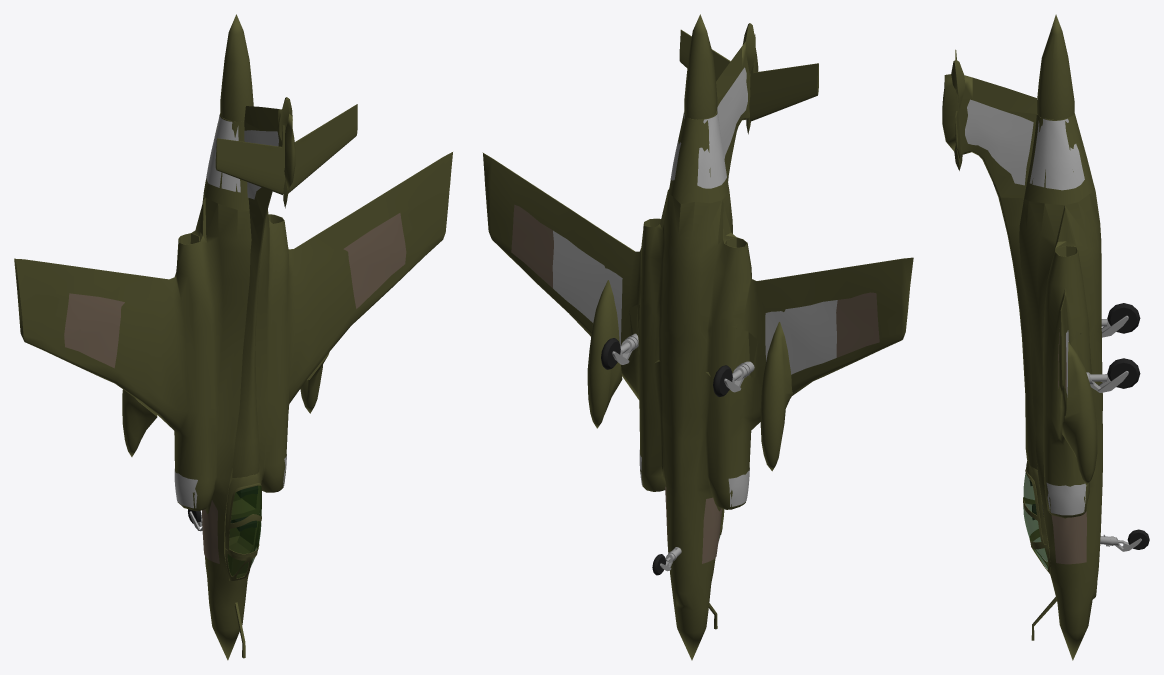
The model's file is uploads_files_2445430_BOEIN707.obj.
3 renders of one model, left to right at view 1: azimuth 30°, elevation 25°; view 2: azimuth 150°, elevation 25°; view 3: azimuth 270°, elevation 25°, orthographic.
Parts seen in each view (by area): view 1: BUCCALAS, BUCCACCE, BUCCPEST0, BUCCPEST2, BUCCFLAP, BUCCCRIS, BUCCP4261, BUCCPEST, BUCCPCOL, BUCCPDIB; view 2: BUCCALAS, BUCCACCE, BUCCP427, BUCCP426, BUCCFLAP, BUCCPEST01, BUCCPEST1, BUCCP4261, BUCCPCOL, BUCCMPLA, BUCCGOMA, BUCCPEST; view 3: BUCCALAS, BUCCACCE, BUCCPCOL0, BUCCP4260, BUCCFLAP, BUCCGOMA, BUCCPEST3, BUCCMPLA, BUCCPDIB0, BUCCCRIS.
Part boxes in pixels (x1,y1,x2,y2): BUCCALAS: (14, 97, 452, 660); BUCCACCE: (122, 352, 329, 580); BUCCPEST0: (343, 213, 406, 308); BUCCPEST2: (64, 293, 124, 368); BUCCFLAP: (220, 14, 253, 121); BUCCCRIS: (227, 485, 261, 577); BUCCP4261: (206, 115, 240, 192); BUCCPEST: (202, 500, 219, 563); BUCCPCOL: (244, 130, 278, 199); BUCCPDIB: (174, 469, 197, 508); BUCCALAS: (482, 23, 913, 660); BUCCACCE: (587, 280, 792, 535); BUCCP427: (765, 300, 837, 374); BUCCP426: (552, 230, 622, 345); BUCCFLAP: (684, 14, 717, 119); BUCCPEST01: (836, 292, 879, 357); BUCCPEST1: (511, 204, 553, 288); BUCCP4261: (697, 111, 726, 188); BUCCPCOL: (717, 67, 747, 159); BUCCMPLA: (612, 333, 754, 571); BUCCGOMA: (601, 338, 732, 575); BUCCPEST: (702, 497, 722, 563); BUCCALAS: (942, 49, 1102, 660); BUCCACCE: (1023, 342, 1097, 575); BUCCPCOL0: (965, 99, 1033, 185); BUCCP4260: (1029, 118, 1084, 190); BUCCFLAP: (1037, 14, 1074, 119); BUCCGOMA: (1029, 303, 1149, 549); BUCCPEST3: (1051, 511, 1086, 564); BUCCMPLA: (1086, 315, 1141, 551); BUCCPDIB0: (1046, 482, 1086, 515); BUCCCRIS: (1023, 473, 1048, 569).
Size of the model in its own units: 701 by 994 by 289.
